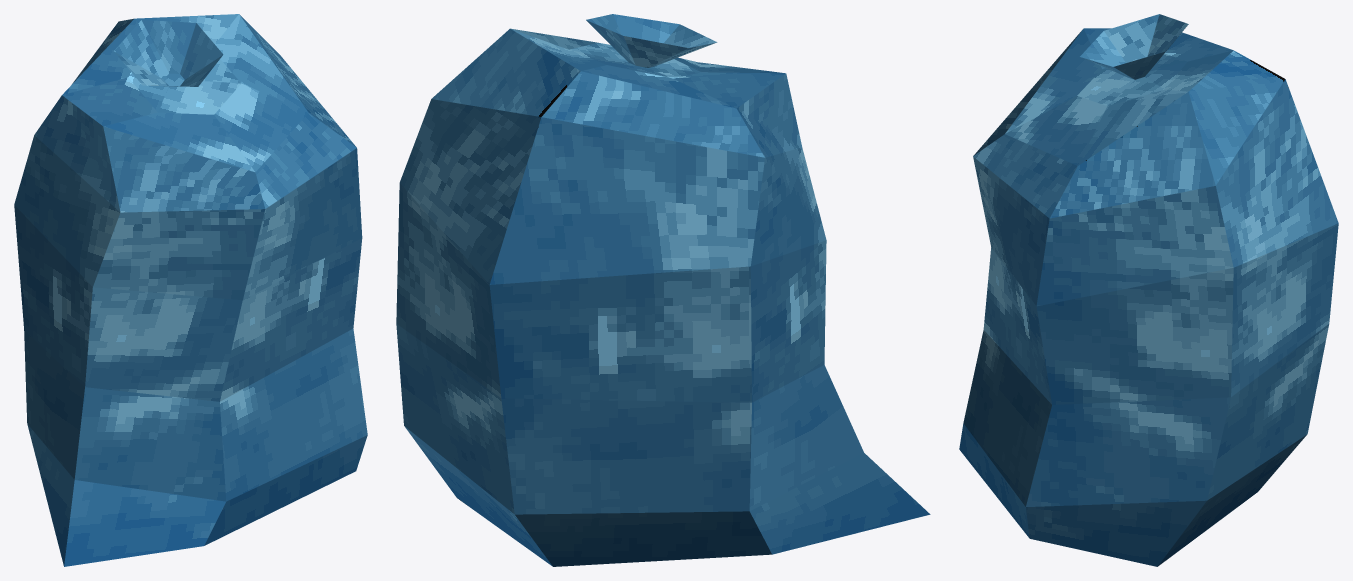
Rendered from trashbag_2_blue.glb.
3 views of the same model, side by side, from view 1: azimuth 30°, elevation 25°; view 2: azimuth 150°, elevation 25°; view 3: azimuth 270°, elevation 25° (orthographic). The views are drawn at different scales.
Parts seen in each view (by area): view 1: trashbag_2_blue; view 2: trashbag_2_blue; view 3: trashbag_2_blue.
Boxes of the visible parts, box(x1,y1,x2,y2) form: trashbag_2_blue: box(14, 14, 367, 566); trashbag_2_blue: box(396, 14, 930, 566); trashbag_2_blue: box(959, 14, 1338, 566).
Bounding box in the file's own units: 0.8555 × 1.04 × 0.7744.
Materials: 1 (1 with a texture image).
